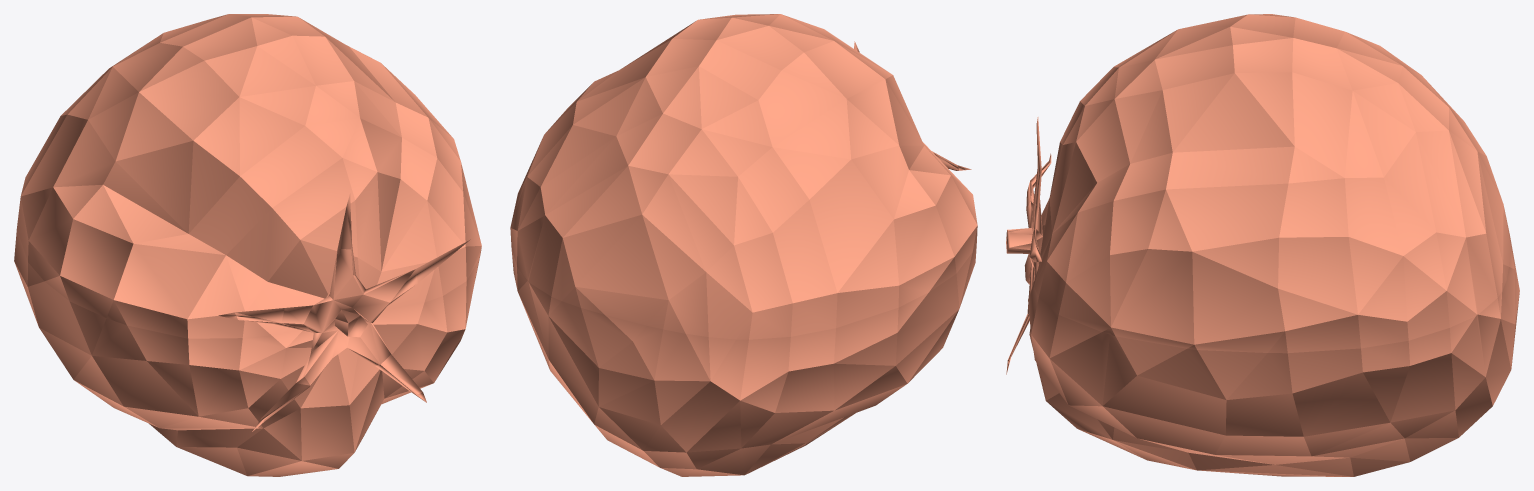
File: MeshTomatoC6Mesh_0.obj
3 views of the same model, side by side, from view 1: azimuth 30°, elevation 25°; view 2: azimuth 150°, elevation 25°; view 3: azimuth 270°, elevation 25° (orthographic). The views are drawn at different scales.
Parts seen in each view (by area): view 1: TomatoC6Mesh; view 2: TomatoC6Mesh; view 3: TomatoC6Mesh.
Boxes of the visible parts, x1,y1,x2,y2 form: TomatoC6Mesh: (14, 14, 481, 476); TomatoC6Mesh: (510, 14, 977, 476); TomatoC6Mesh: (1006, 14, 1519, 476).
Size of the model in its own units: 0.1271 by 0.127 by 0.1332.
